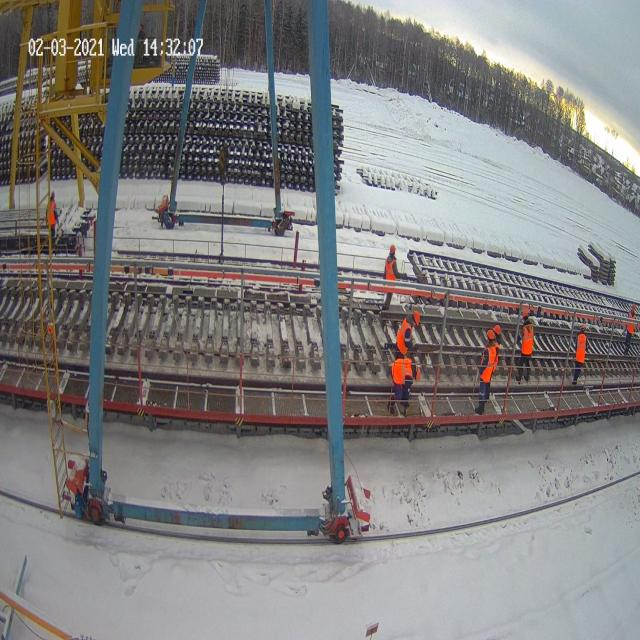Helmet: (414, 362, 422, 386), (413, 310, 420, 326), (487, 328, 495, 340), (494, 325, 501, 335), (390, 244, 396, 254), (522, 308, 528, 318)
Person: (474, 326, 500, 415), (388, 351, 423, 412), (518, 307, 542, 388), (382, 244, 400, 311), (396, 311, 420, 356), (572, 323, 587, 385), (46, 191, 59, 253), (624, 303, 638, 356)
